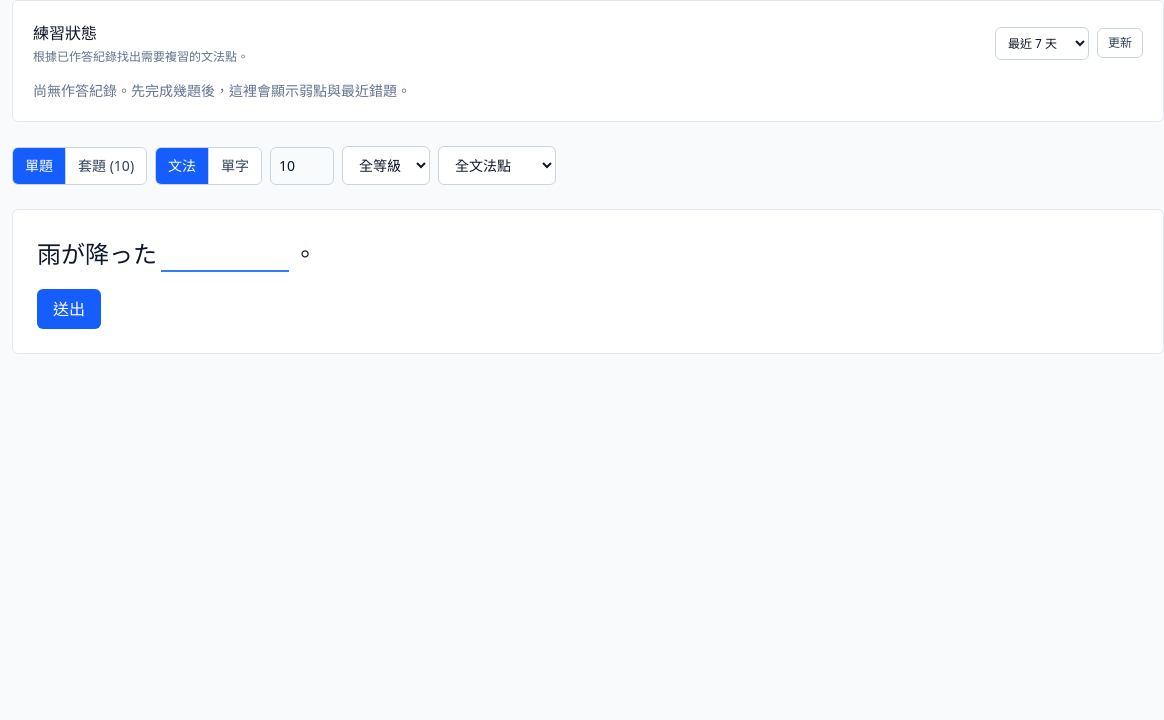
Test: QuizTab › shows Chinese vocab item detail when globally enabled
The width and height of the screenshot is (1164, 720).
Check: the text "雨が降った" is shown, box [37,237,293,270]
Step 1. Type "はず" into the field → point(225, 255), box [161,238,289,272]
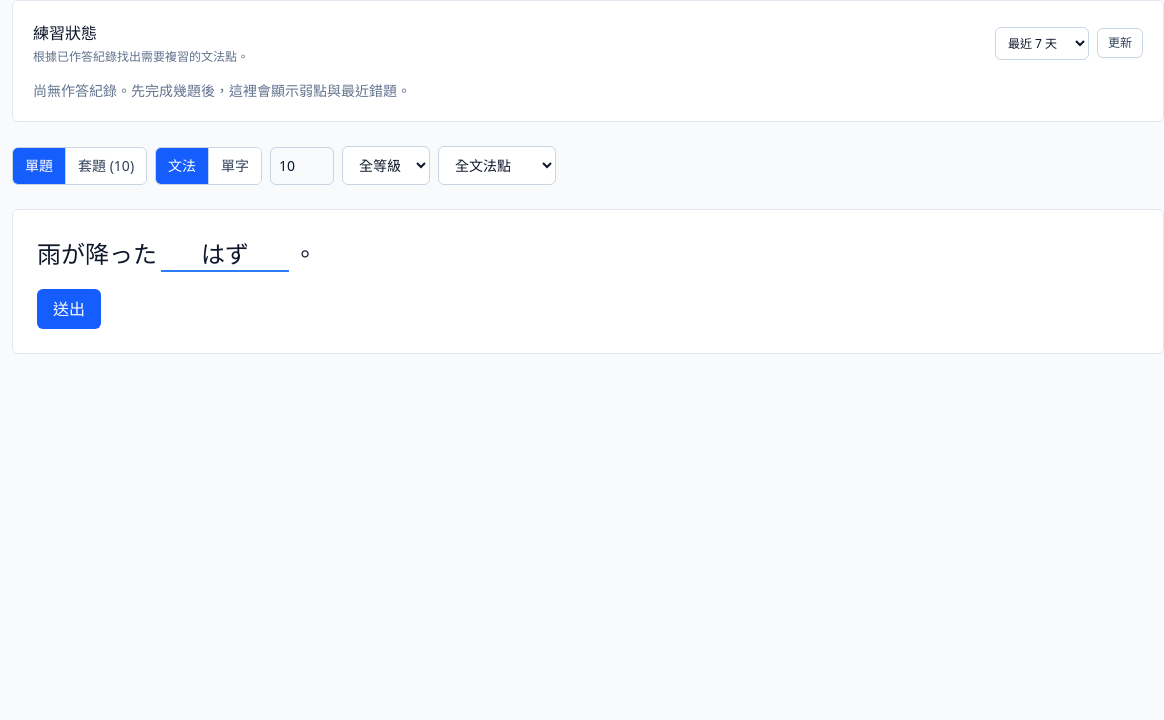
Step 2. Click the button "送出" → point(69, 309), box [37,289,101,329]
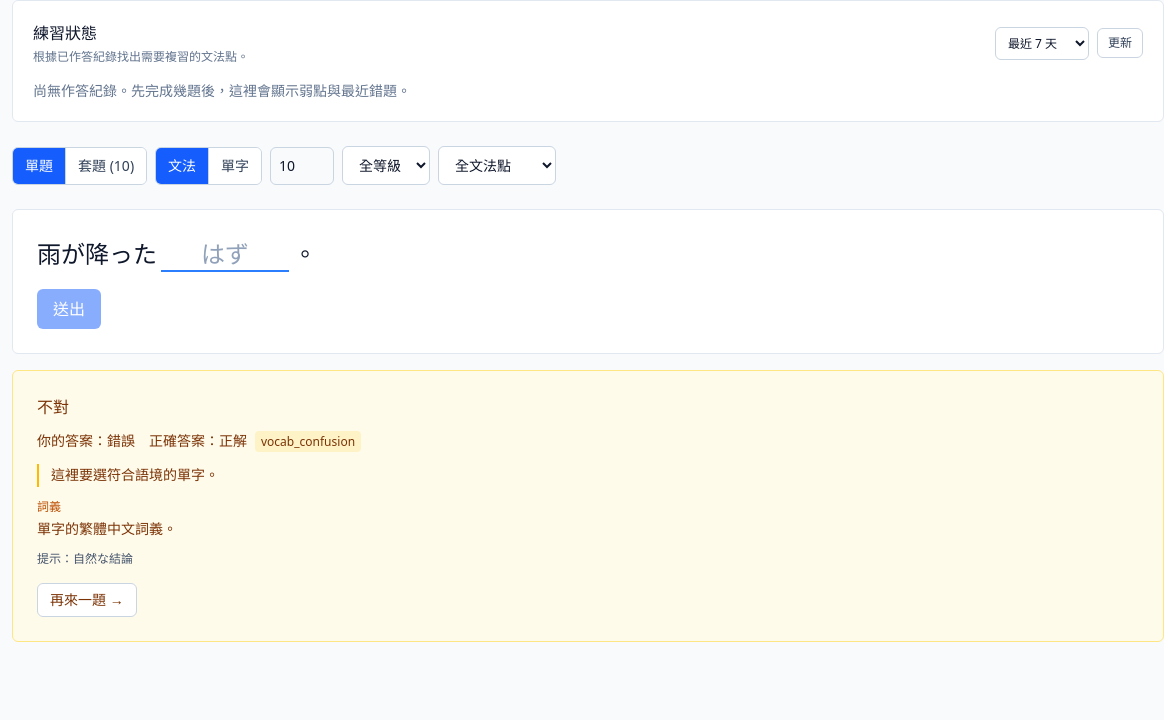
Check: the text "不對" is shown, box [37,396,69,418]
Check: the text "詞義" is shown, box [37,498,61,515]
Check: the text "單字的繁體中文詞義。" is shown, box [37,519,177,538]
